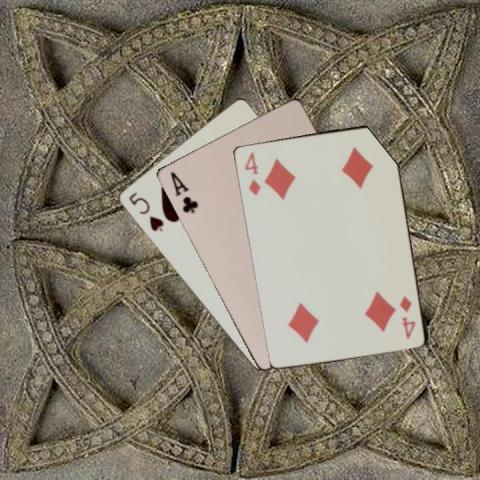4d: (241, 148, 262, 197), (396, 293, 417, 340)
5s: (125, 189, 165, 233)
Ac: (167, 169, 199, 215)
